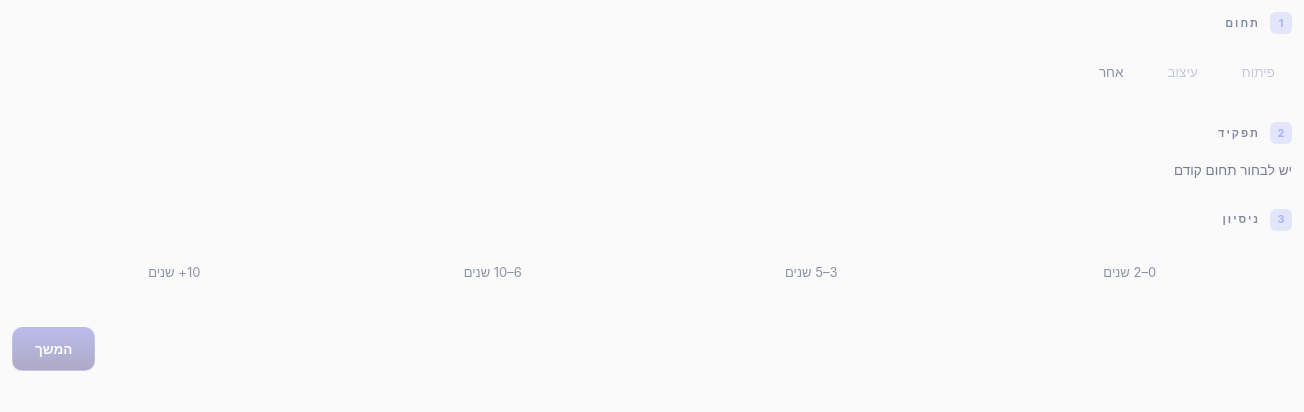
Test: AboutYouStep - happy path › fetches Field-scoped roles once a curated Field is picked, resetting any prior Role pick
The width and height of the screenshot is (1304, 412).
Click the button "פיתוח" at (1258, 72), box [1225,50,1292,94]
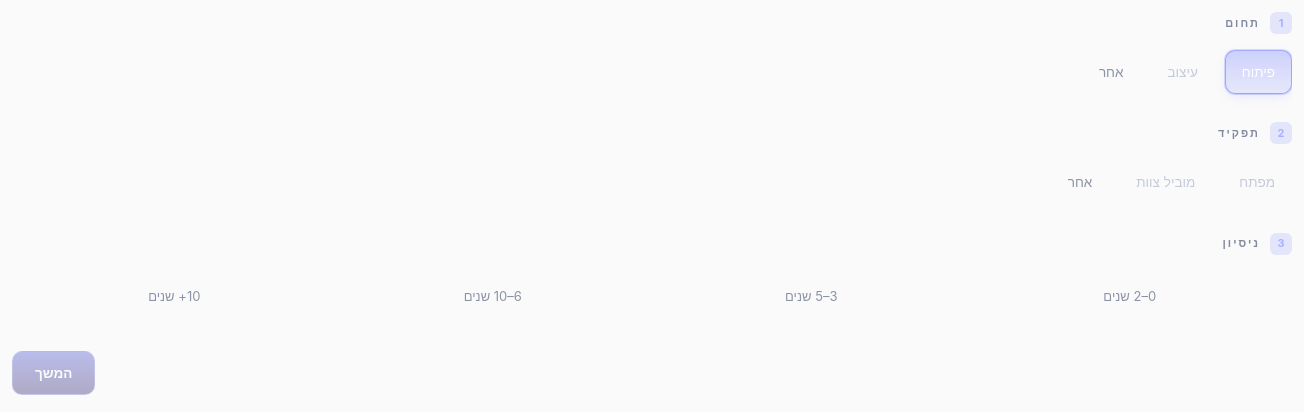
Expected: the button "מפתח" is shown, [1222,160,1292,205]
